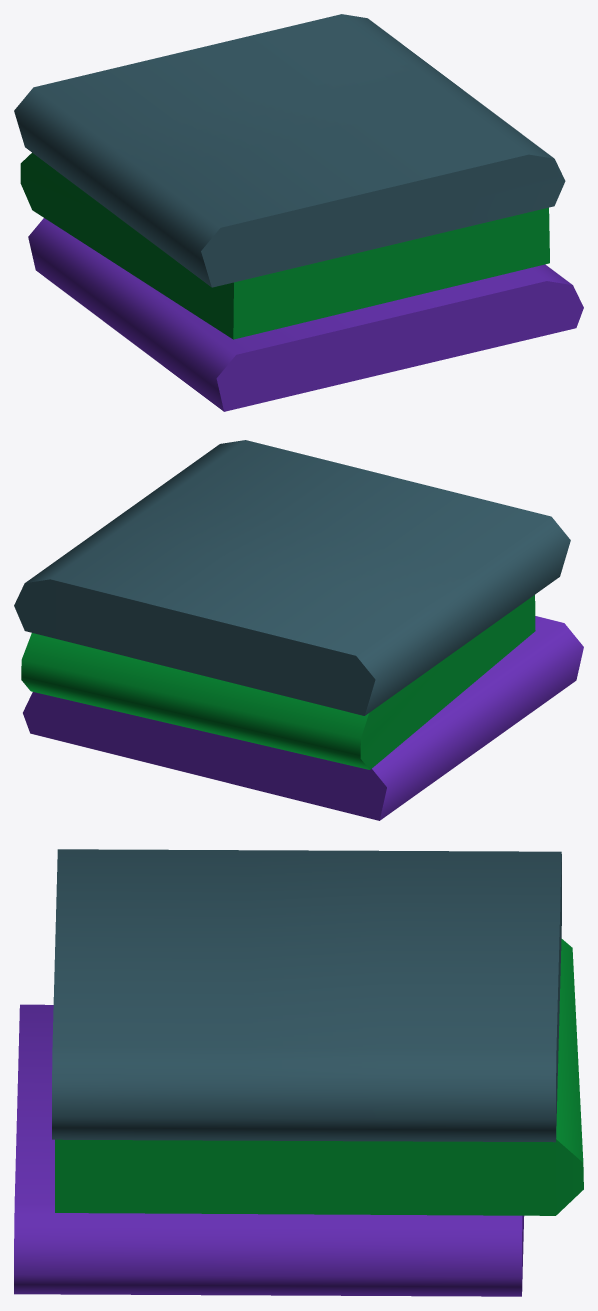
File: shop_014.glb
The picture shows the model from 3 angles, top to bottom: view 1: azimuth 30°, elevation 25°; view 2: azimuth 150°, elevation 25°; view 3: azimuth 270°, elevation 25°; orthographic projection. The views are drawn at different scales.
Parts seen in each view (by area): view 1: shop_014; view 2: shop_014; view 3: shop_014.
Part boxes in pixels (<box>): shop_014: <box>14,14,583,411</box>; shop_014: <box>14,440,583,820</box>; shop_014: <box>14,849,583,1296</box>.
Size of the model in its own units: 0.4066 by 0.1796 by 0.4104.
1 material, 1 textured.
